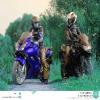motorcycles: (11, 36, 44, 88), (60, 33, 92, 78)
